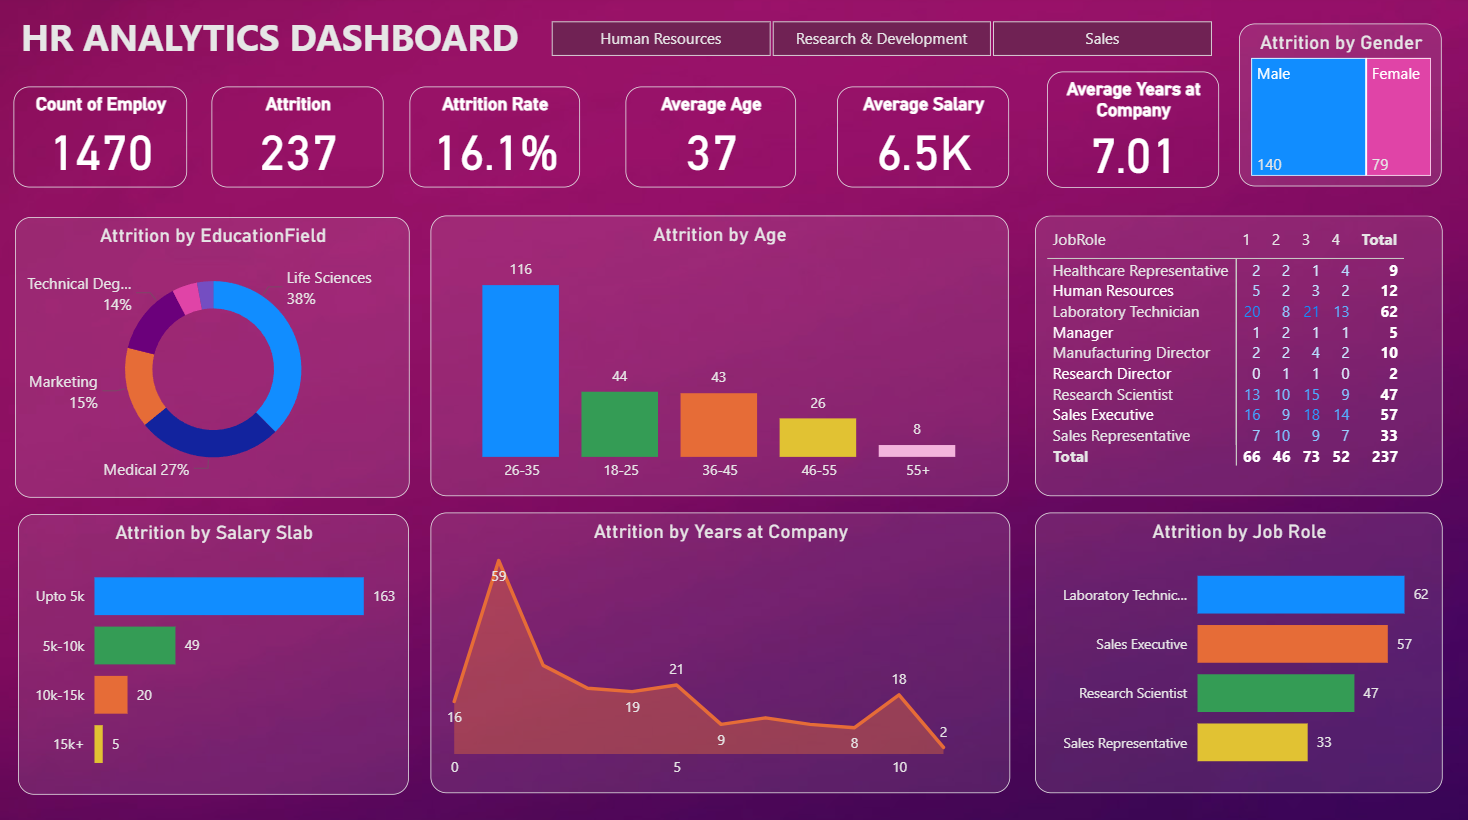

Layout of this report page (visuals, bound fields, positions):
{"tool":"powerbi","page":{"name":"Page 1","canvas":[1280,720],"ordinal":0},"visuals":[{"type":"card","title":"Count of Employ","fields":{"Values":["CountNonNull(HR_Analytics.EmpID)"]},"box":[12.6,93.2,150,74.2],"z":0},{"type":"card","title":"Attrition","fields":{"Values":["Sum(HR_Analytics.AttritionCount)"]},"box":[184.7,91.6,150,75.8],"z":1000},{"type":"card","title":"Attrition Rate","fields":{"Values":["HR_Analytics.attritionRate"]},"box":[356.8,91.6,148.4,75.8],"z":2000},{"type":"card","title":"Average Age","fields":{"Values":["Avg(HR_Analytics.Age)"]},"box":[544.7,91.6,148.4,75.8],"z":3000},{"type":"card","title":"Average Salary","fields":{"Values":["Avg(HR_Analytics.MonthlyIncome)"]},"box":[729.5,91.6,150,75.8],"z":4000},{"type":"card","title":"Average Years at Company","fields":{"Values":["Avg(HR_Analytics.YearsAtCompany)"]},"box":[912.6,66.3,150,101.1],"z":5000},{"type":"donutChart","title":"Attrition by EducationField","fields":{"Category":["HR_Analytics.EducationField"],"Y":["Sum(HR_Analytics.AttritionCount)"]},"box":[13.2,193.2,344.2,244.7],"z":6000},{"type":"columnChart","title":"Attrition by Age","fields":{"Category":["HR_Analytics.AgeGroup"],"Y":["Sum(HR_Analytics.AttritionCount)"]},"box":[375.8,192.6,503.7,244.7],"z":7000},{"type":"pivotTable","fields":{"Rows":["HR_Analytics.JobRole"],"Columns":["HR_Analytics.JobSatisfaction"],"Values":["Sum(HR_Analytics.AttritionCount)"]},"box":[901.6,192.6,355.3,244.7],"z":8000},{"type":"barChart","title":"Attrition by Salary Slab","fields":{"Category":["HR_Analytics.SalarySlab"],"Y":["Sum(HR_Analytics.AttritionCount)"]},"box":[15.9,452.1,340.6,245],"z":9000},{"type":"barChart","title":"Attrition by Job Role","fields":{"Y":["Sum(HR_Analytics.AttritionCount)"],"Category":["HR_Analytics.JobRole"]},"box":[901.6,451.6,355.3,244.7],"z":10000},{"type":"areaChart","title":"Attrition by Years at Company","fields":{"Category":["HR_Analytics.YearsAtCompany"],"Y":["Sum(HR_Analytics.AttritionCount)"]},"box":[375.8,451.6,505.3,244.7],"z":11000},{"type":"treemap","title":"Attrition by Gender","fields":{"Group":["HR_Analytics.Gender"],"Values":["Sum(HR_Analytics.AttritionCount)"]},"box":[1080,25.3,176.8,142.1],"z":12000},{"type":"slicer","fields":{"Values":["HR_Analytics.Department"]},"box":[454.7,15.8,625.3,44.2],"z":13000},{"type":"textbox","box":[12.6,9.5,470.5,56.8],"z":14000}]}

Visuals, with their boxes in screenshot pixels (x1, y1, x2, y2), scaled from the page's 1280x720 canvas onto the 1468x820 screenshot:
"Count of Employ" card: rect(14, 106, 186, 191)
"Attrition" card: rect(212, 104, 384, 191)
"Attrition Rate" card: rect(409, 104, 579, 191)
"Average Age" card: rect(625, 104, 795, 191)
"Average Salary" card: rect(837, 104, 1009, 191)
"Average Years at Company" card: rect(1047, 76, 1219, 191)
"Attrition by EducationField" donutChart: rect(15, 220, 410, 499)
"Attrition by Age" columnChart: rect(431, 219, 1009, 498)
pivotTable - HR_Analytics.JobRole x HR_Analytics.JobSatisfaction: rect(1034, 219, 1442, 498)
"Attrition by Salary Slab" barChart: rect(18, 515, 409, 794)
"Attrition by Job Role" barChart: rect(1034, 514, 1442, 793)
"Attrition by Years at Company" areaChart: rect(431, 514, 1011, 793)
"Attrition by Gender" treemap: rect(1239, 29, 1441, 191)
slicer - HR_Analytics.Department: rect(521, 18, 1239, 68)
textbox: rect(14, 11, 554, 76)
